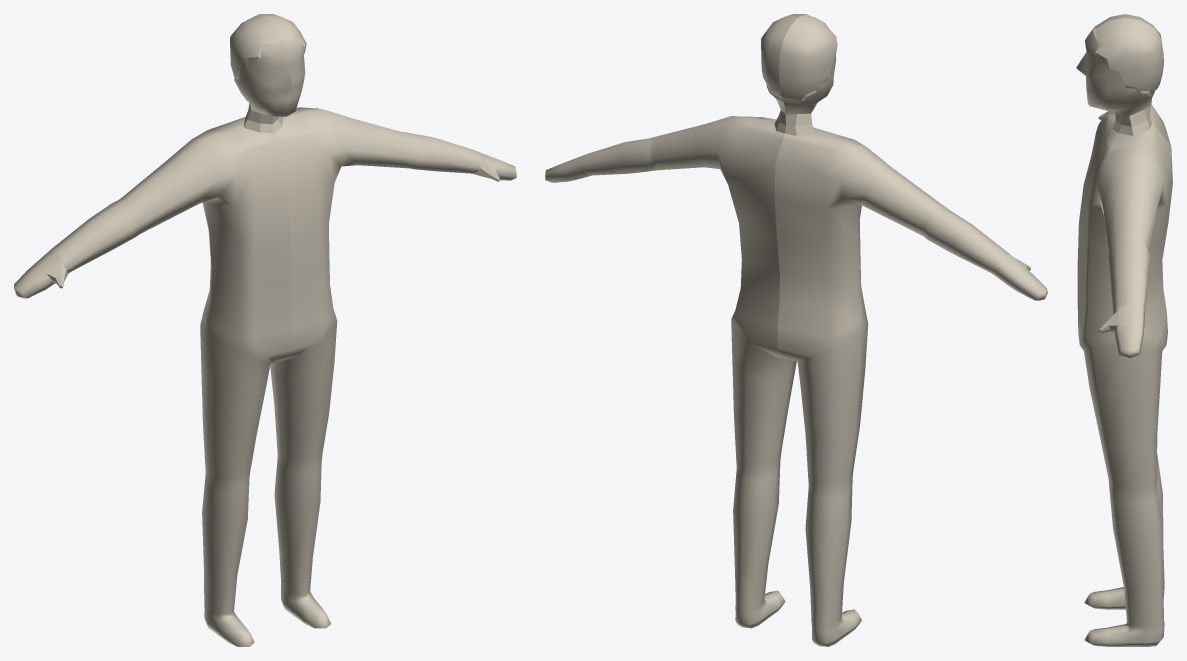
Rendered from cadaver.fbx.
3 views of the same model, side by side, from view 1: azimuth 30°, elevation 25°; view 2: azimuth 150°, elevation 25°; view 3: azimuth 270°, elevation 25° (orthographic).
Visible parts, largest first — view 1: pCube9; view 2: pCube9; view 3: pCube9.
Part boxes in pixels (x1=…): pCube9: x1=14, y1=14, x2=516, y2=646; pCube9: x1=545, y1=14, x2=1047, y2=646; pCube9: x1=1076, y1=14, x2=1172, y2=646.
Bounding box in the file's own units: 6.09 × 7.06 × 1.02.
